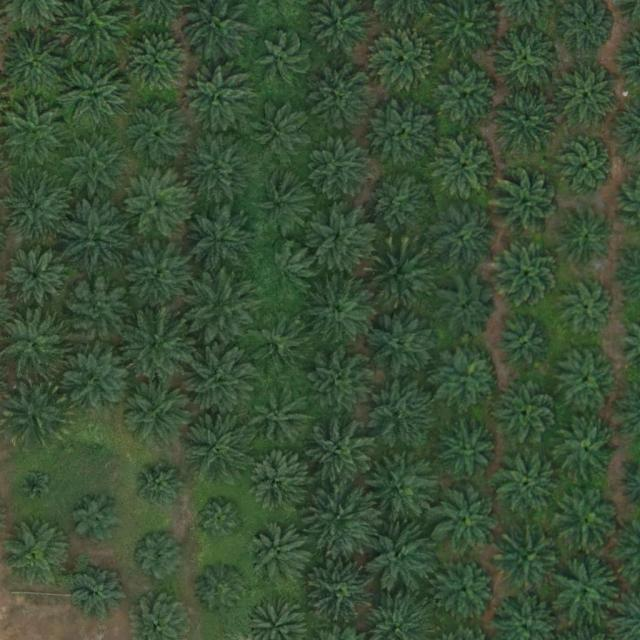Healthy: (490, 25, 561, 96), (495, 87, 566, 158), (302, 275, 373, 346), (122, 241, 193, 312), (120, 310, 191, 381), (2, 175, 73, 246), (61, 62, 131, 133), (183, 66, 253, 137), (492, 169, 562, 240), (366, 171, 436, 242), (367, 309, 438, 379), (365, 377, 435, 448), (306, 349, 377, 419), (306, 418, 376, 489), (184, 205, 254, 276), (186, 272, 256, 343), (187, 345, 257, 416), (183, 409, 253, 480), (59, 134, 129, 205), (60, 203, 130, 274), (62, 278, 133, 348), (2, 519, 72, 590), (307, 485, 378, 555), (368, 452, 438, 523), (366, 524, 437, 594), (433, 486, 503, 557), (497, 527, 567, 598), (550, 557, 621, 627), (123, 98, 193, 168), (185, 134, 255, 204), (307, 134, 377, 204), (372, 99, 442, 169), (493, 238, 563, 308), (366, 243, 436, 313), (308, 205, 378, 275), (122, 170, 192, 240), (124, 378, 194, 448), (66, 345, 136, 415), (308, 558, 378, 628), (492, 448, 562, 518), (312, 68, 375, 131), (437, 64, 500, 127), (555, 135, 618, 198), (555, 206, 618, 269), (437, 347, 500, 410), (435, 418, 498, 481), (5, 246, 68, 309), (245, 454, 308, 517), (249, 524, 312, 587), (126, 30, 188, 93), (374, 28, 436, 91), (557, 67, 620, 129), (556, 349, 618, 412), (556, 422, 618, 485), (496, 383, 558, 446), (433, 136, 495, 199), (431, 206, 493, 269), (437, 278, 499, 341), (253, 172, 315, 235), (250, 388, 313, 450), (437, 559, 499, 622), (248, 314, 310, 376), (557, 487, 619, 549), (255, 105, 310, 160), (499, 317, 554, 372), (259, 245, 314, 300), (75, 564, 130, 619), (255, 33, 309, 88), (561, 281, 615, 336), (71, 493, 125, 548), (131, 529, 185, 584), (195, 564, 249, 619)
Small: (133, 461, 187, 516), (197, 496, 244, 543), (20, 470, 51, 502), (81, 431, 112, 462)
